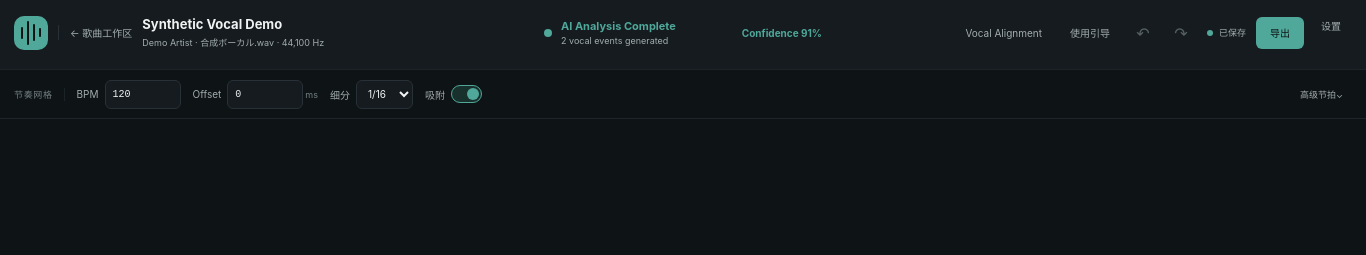
it: EditorToolbar › opens settings without replacing the existing analysis controls
Click the heading "设置".
click(1331, 26)  # box [1321, 20, 1341, 32]
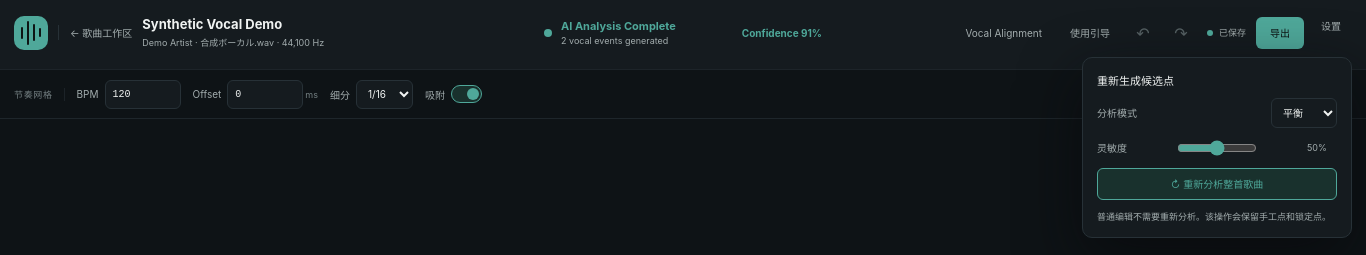
Check: the dropdown labelled "分析模式" shows "平衡", box [1271, 98, 1337, 128]
Check: the button "↻ 重新分析整首歌曲" is shown, box [1097, 168, 1337, 200]
